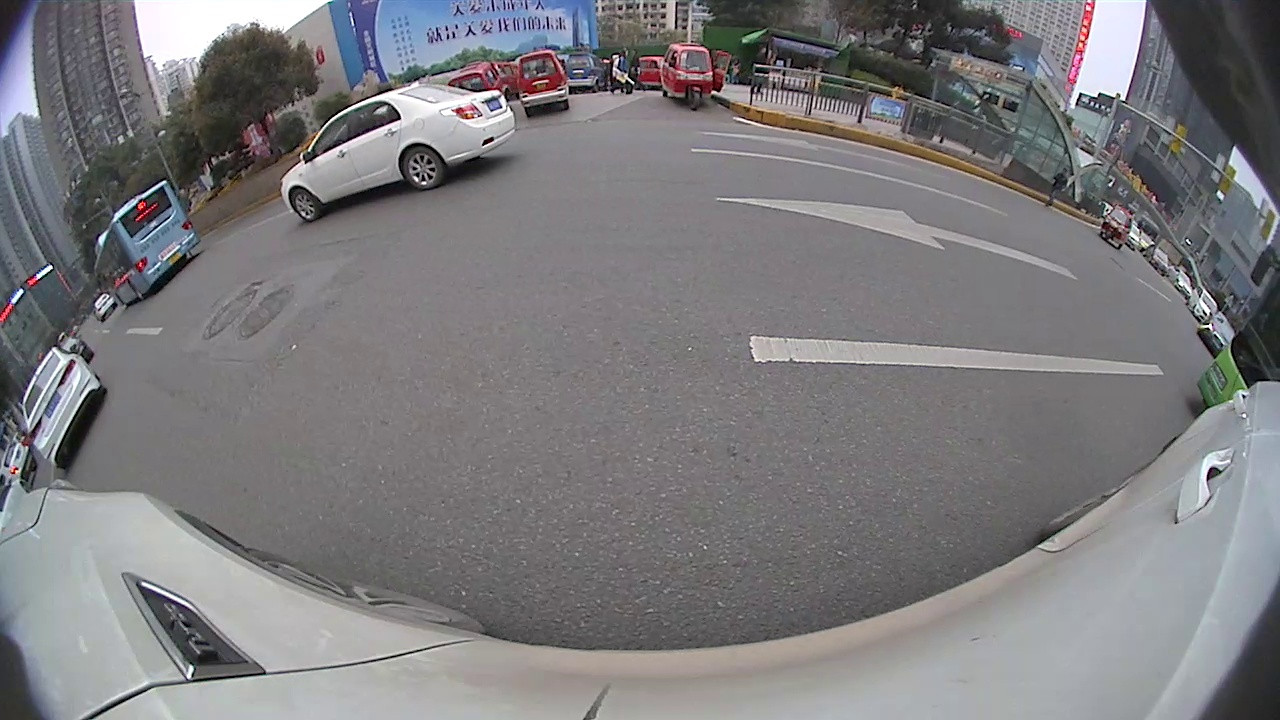bus: (1197, 233, 1278, 430), (93, 178, 198, 308)
car: (280, 80, 519, 224), (21, 344, 107, 473), (1197, 311, 1237, 359), (56, 331, 95, 370), (0, 444, 38, 478), (1188, 286, 1219, 323), (1144, 245, 1173, 274), (1166, 267, 1193, 297), (90, 293, 118, 319)
front: (290, 192, 325, 223)
person: (1053, 165, 1064, 206)
rear: (399, 146, 445, 192), (133, 285, 146, 302)
rider: (517, 48, 571, 118), (663, 43, 714, 112), (450, 60, 508, 110), (566, 52, 609, 93), (1102, 206, 1133, 247), (635, 55, 665, 90)
